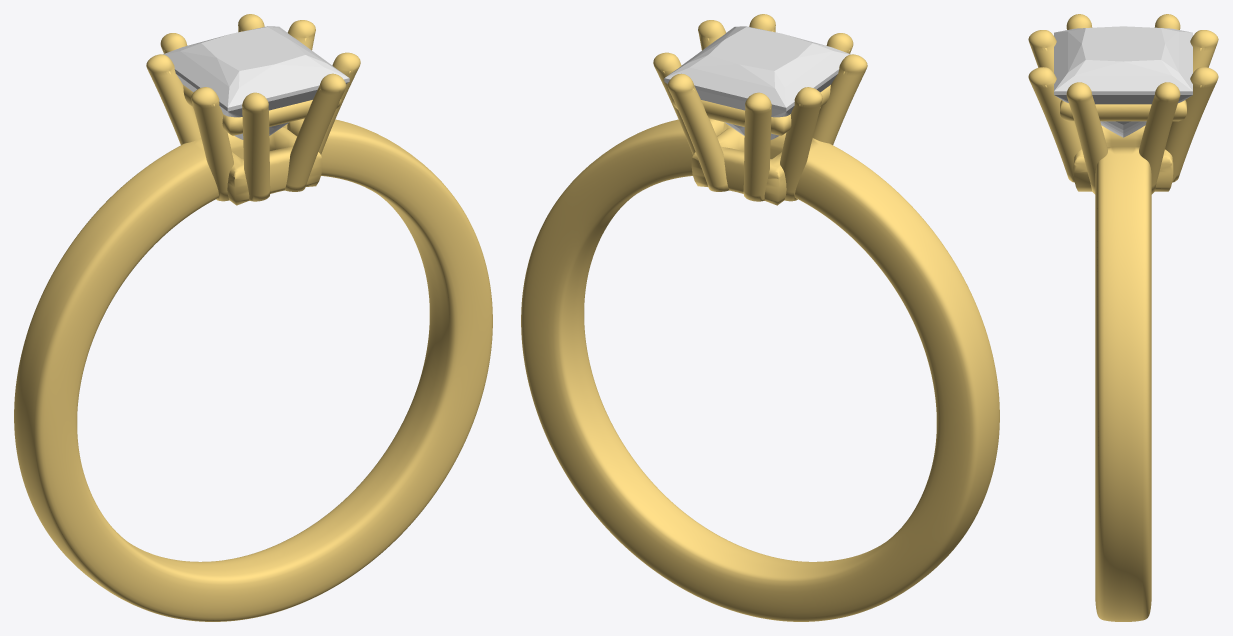
Rendered from diamond-princess-yellowgold-8prong-straightband-solitaire.glb.
The picture shows the model from 3 angles, left to right: view 1: azimuth 30°, elevation 25°; view 2: azimuth 150°, elevation 25°; view 3: azimuth 270°, elevation 25°; orthographic projection.
Parts seen in each view (by area): view 1: metal, stone; view 2: metal, stone; view 3: metal, stone.
Boxes of the visible parts, x1,y1,x2,y2 form: metal: (14,14,492,621); stone: (163,26,349,139); metal: (521,14,999,621); stone: (664,26,850,139); metal: (1028,14,1218,621); stone: (1054,26,1192,137).
Size of the model in its own units: 20.51 by 23.85 by 7.42.
